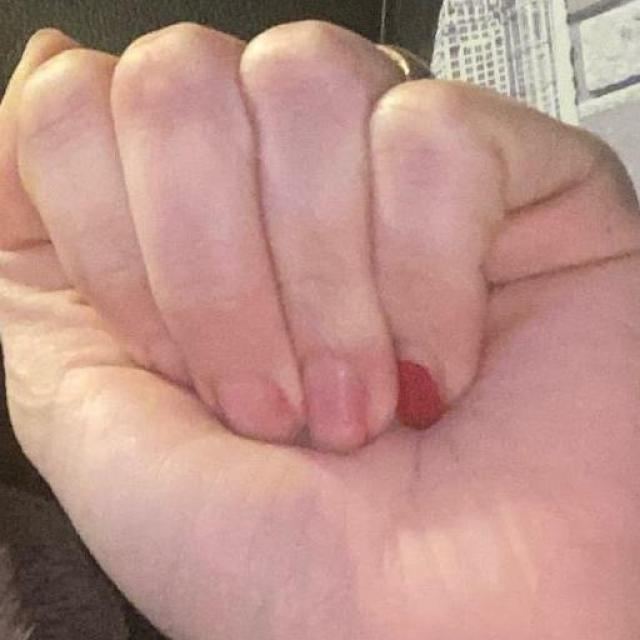hand: (0, 16, 639, 639)
